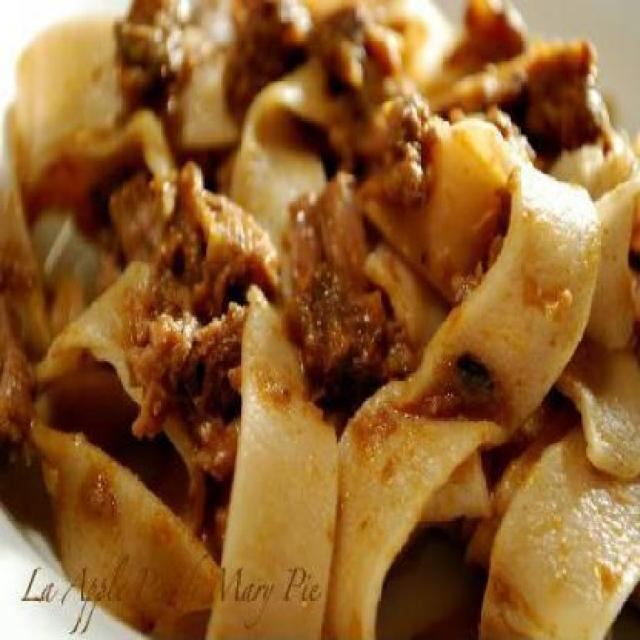Pasta al ragu: (31, 24, 638, 560)
